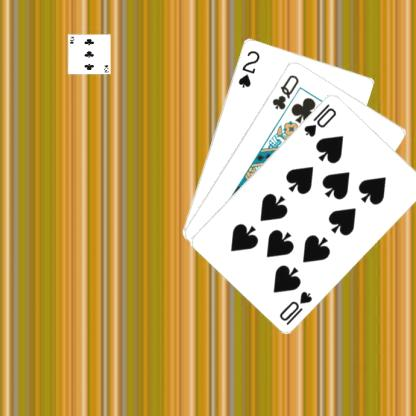10S: (276, 288, 314, 326), (300, 101, 338, 138)
2S: (235, 48, 261, 89)
QC: (269, 71, 300, 111)
